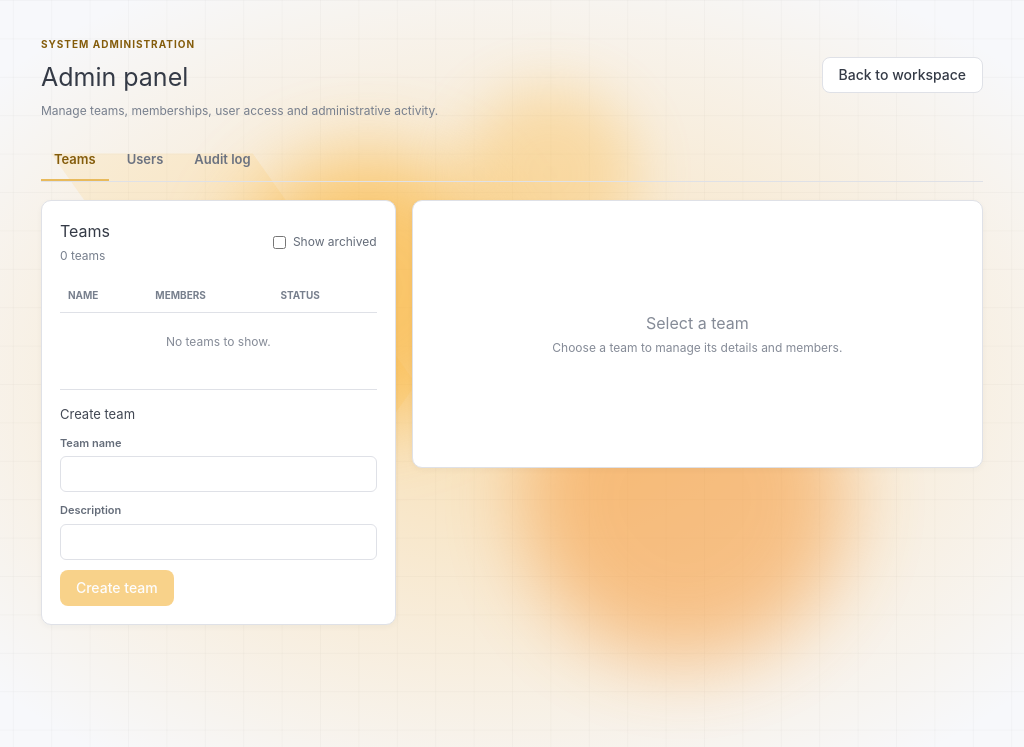
AdminPanel › shows the last-system-admin safeguard returned by the API
The width and height of the screenshot is (1024, 747).
Click the button "Users" at [145, 160], box [114,140,176,181]
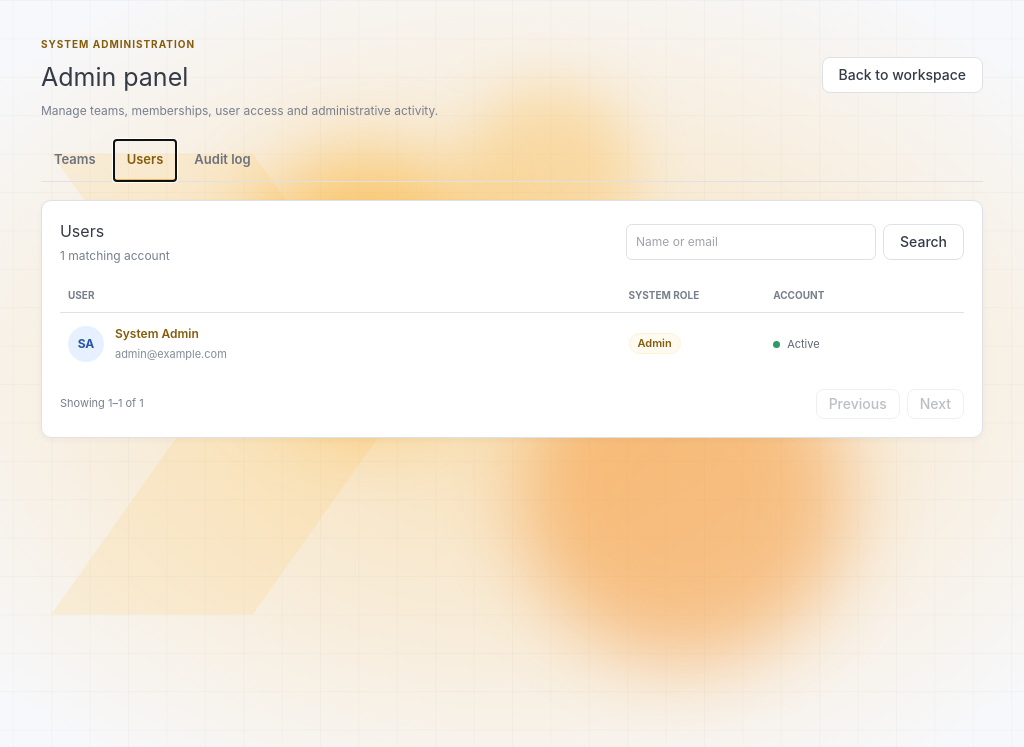
Click the button with aria-label "Manage System Admin" at [157, 334], box [115,325,199,343]
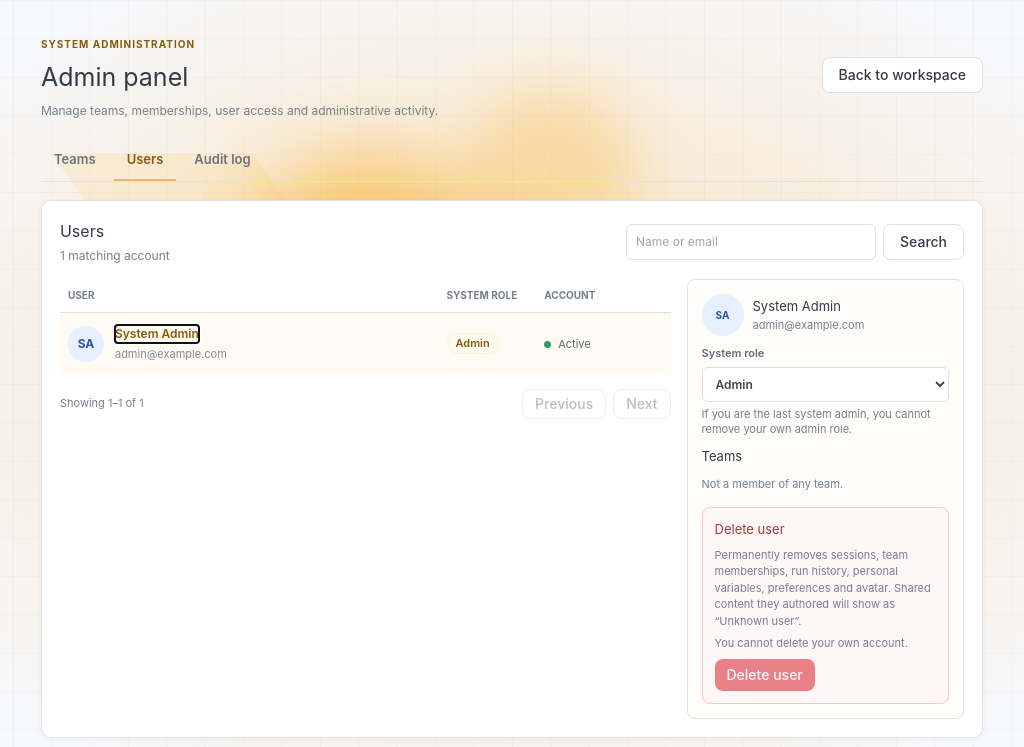
expect the text "If you are the last system admin, you cannot remove your own admin role." is shown: met, box [702,406,949,438]
expect the button "Delete user" is disabled: met, box [714,659,815,691]
expect the text "You cannot delete your own account." is shown: met, box [714,636,908,652]
Select "User" in the dropdown labelled "System role" at [825, 384], box [702,366,949,402]
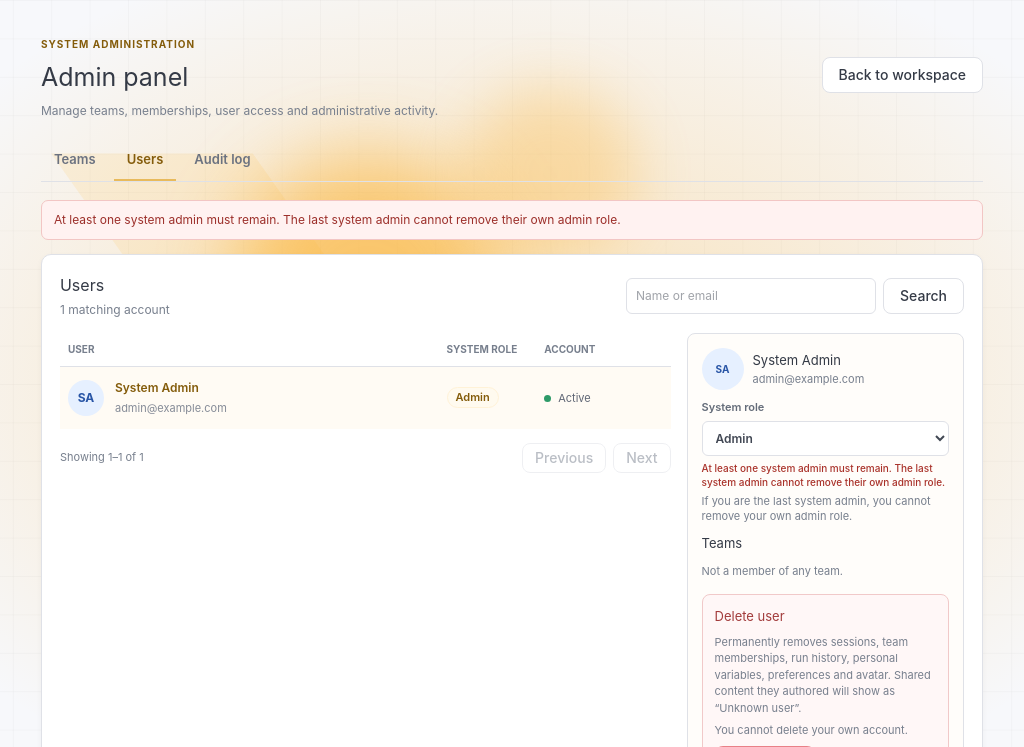
expect the text "The last system admin cannot remove their own admin role." in the row of "Showing" is shown: met, box [702,462,945,488]
